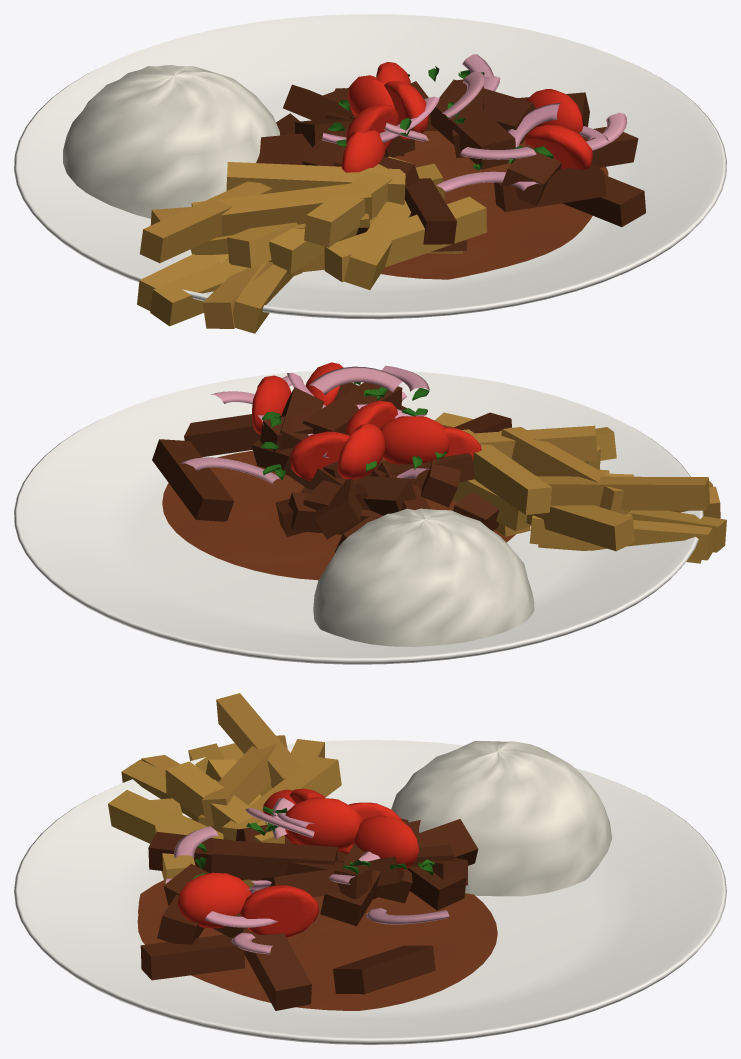
Rendered from lomo-saltado.glb.
3 views of the same model, one above another, from view 1: azimuth 30°, elevation 25°; view 2: azimuth 150°, elevation 25°; view 3: azimuth 270°, elevation 25° (orthographic). The views are drawn at different scales.
Visible parts, largest first — view 1: lomo-saltado; view 2: lomo-saltado; view 3: lomo-saltado.
Boxes of the visible parts, left/top/right/bottom form: lomo-saltado: left=14, top=14, right=726, bottom=333; lomo-saltado: left=14, top=362, right=726, bottom=664; lomo-saltado: left=14, top=693, right=726, bottom=1044.
Size of the model in its own units: 0.28 by 0.0647 by 0.28.
